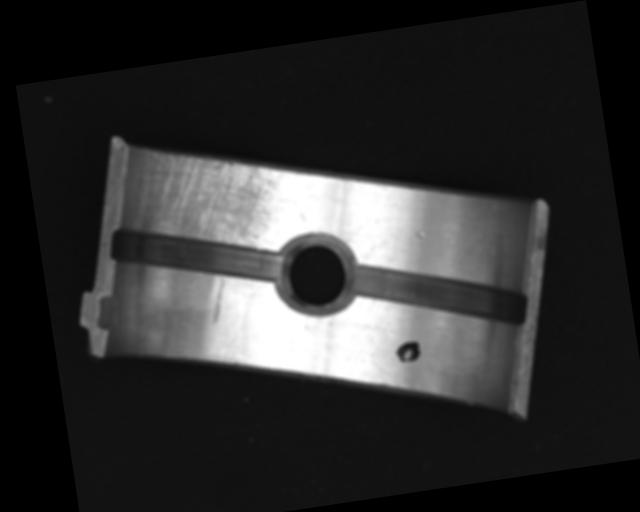blot: (393, 338, 423, 365)
bruise: (414, 228, 426, 241)
gap: (347, 240, 530, 349), (108, 206, 287, 304)
hole: (272, 229, 361, 321)
nick: (205, 272, 231, 325), (340, 216, 372, 245)
scratch: (122, 124, 305, 266)
